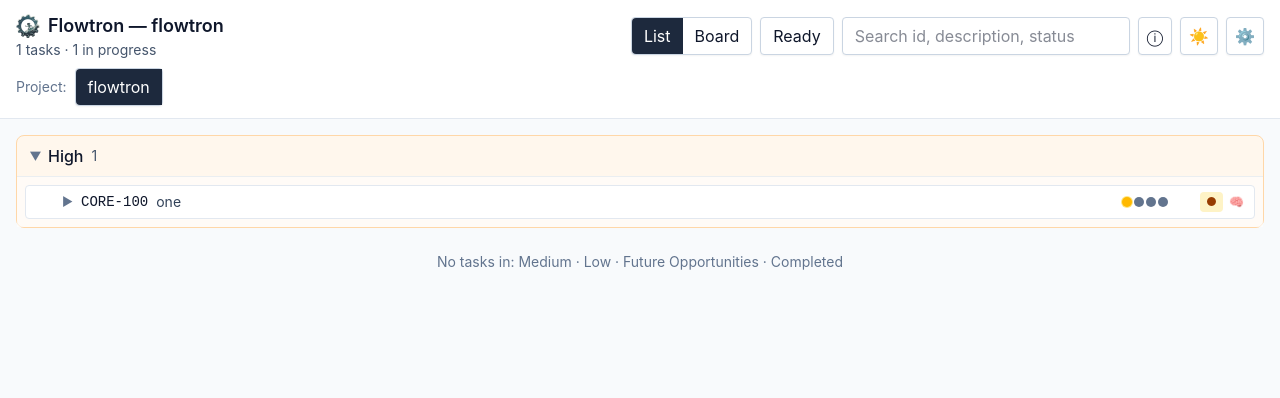
App — optional YAML planning keys in TaskDetail › renders no planning meta when YAML keys are omitted
Expected: the text "CORE-100" is shown, 81,192 -> 148,212
Click the button "▶ CORE-100 one". click: (115, 202)
box: 62,192 -> 1114,212
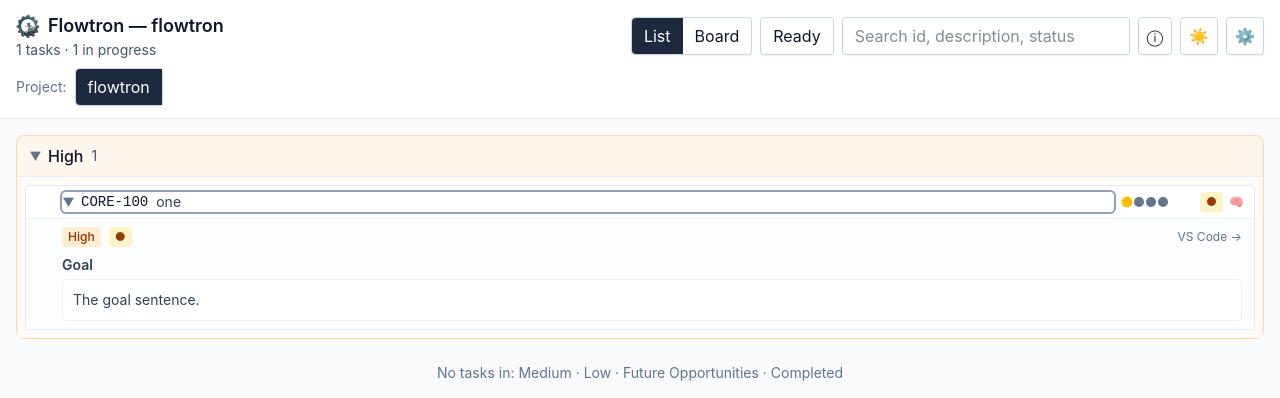
Now the text "The goal sentence." is shown, box 73,291 -> 200,308
